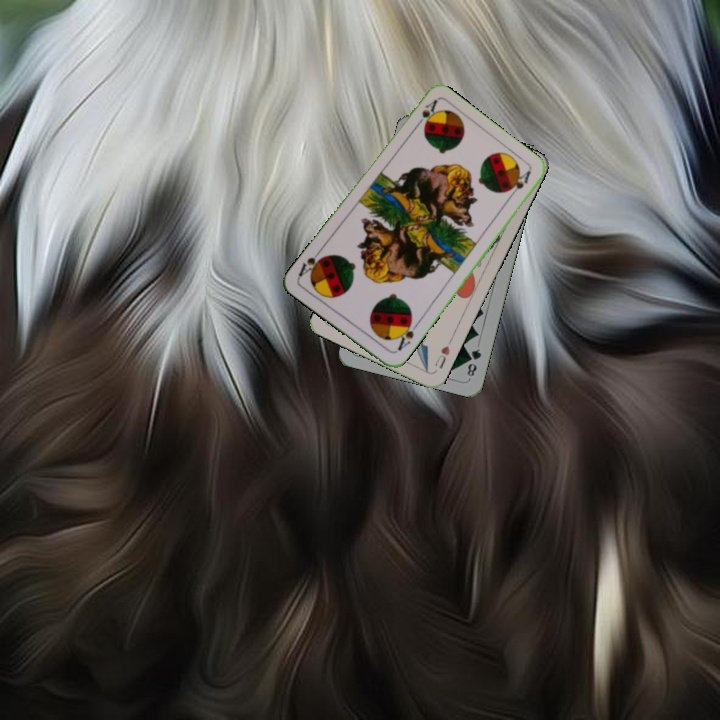G8: (463, 345, 484, 379)
HU: (430, 341, 453, 371)
SA: (393, 316, 421, 354), (410, 96, 440, 131)
